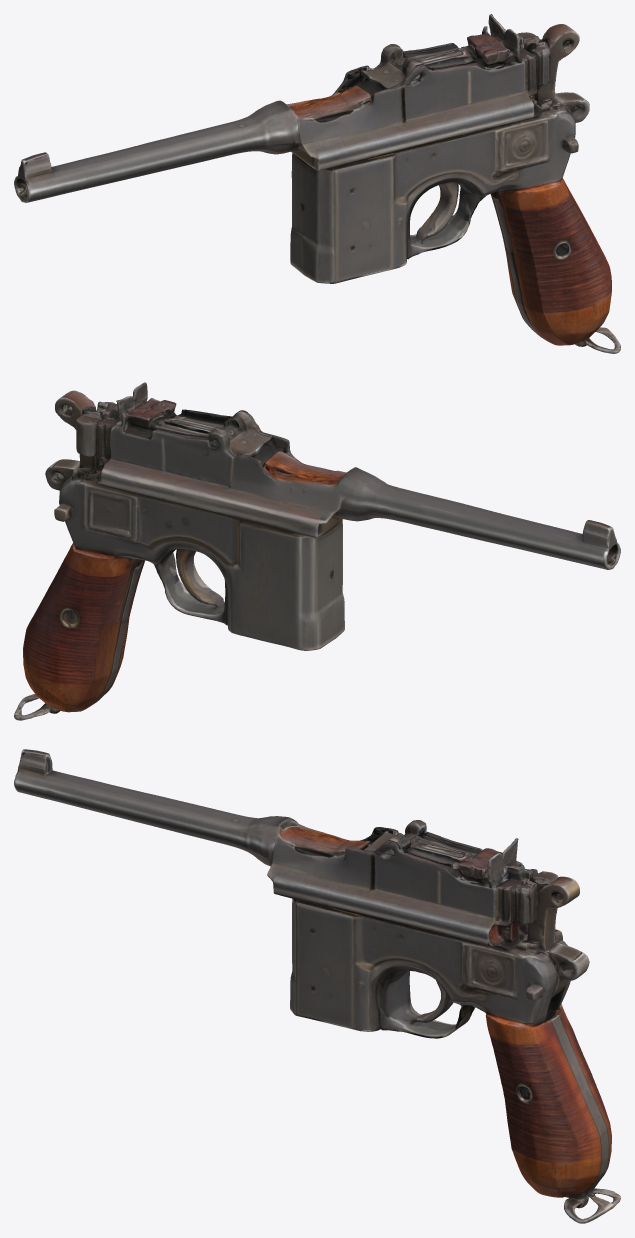
File: pistol_mauzer.glb
3 renders of one model, top to bottom at view 1: azimuth 30°, elevation 25°; view 2: azimuth 150°, elevation 25°; view 3: azimuth 330°, elevation 25°, orthographic.
Bounding box in the file's own units: 2 × 1.1 × 0.2686.
Materials: 1 (1 with a texture image).
